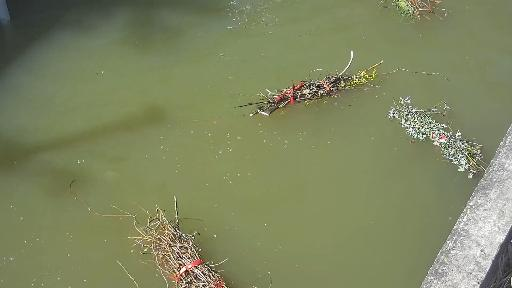twig: (83, 193, 269, 288), (241, 58, 432, 123), (377, 90, 494, 166), (374, 0, 454, 31)
